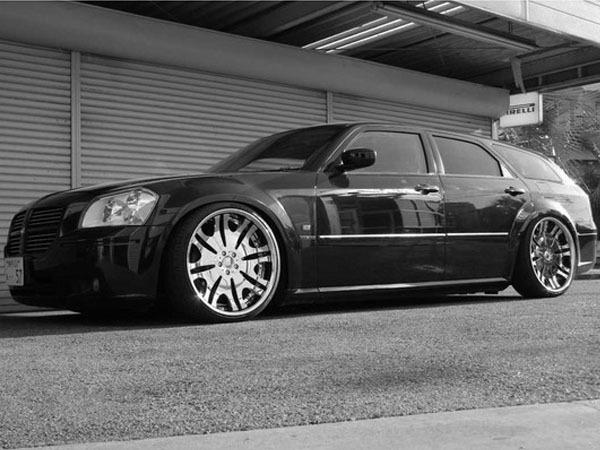car: (3, 127, 600, 324)
